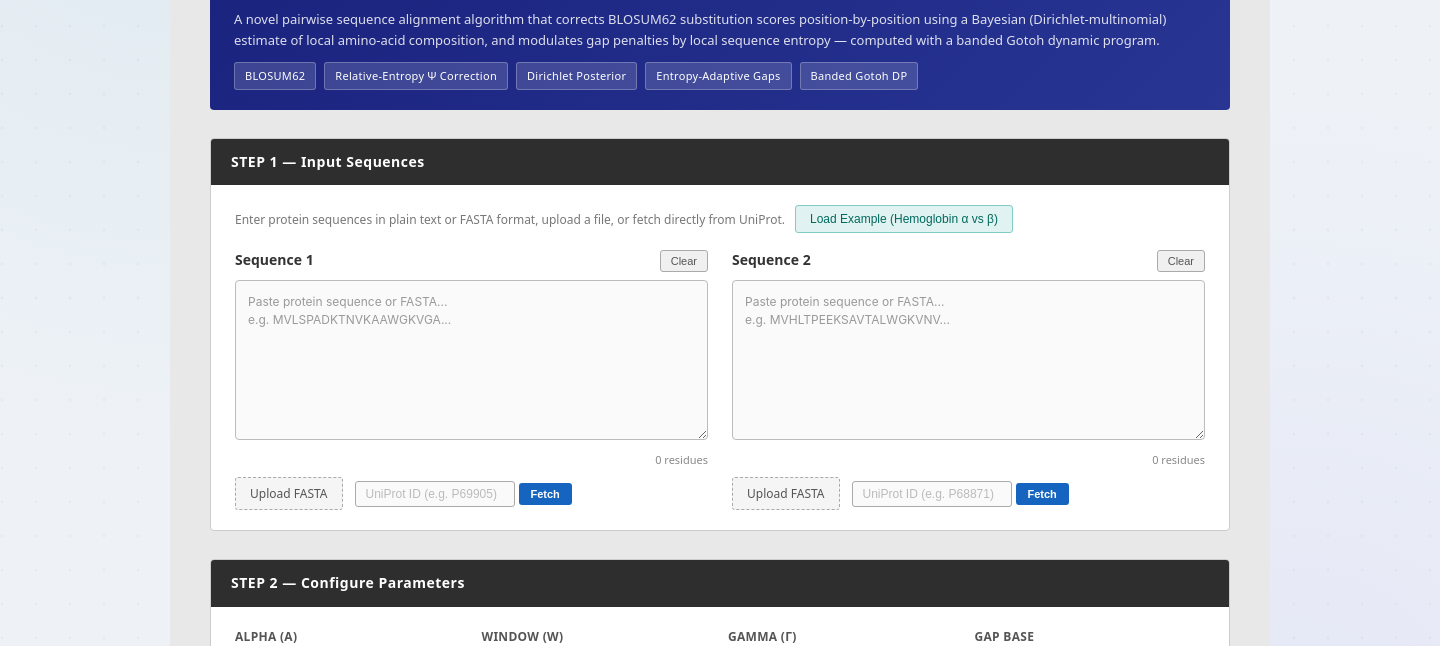
ProteinAlignmentPage › shows the submit button as disabled and with "Aligning..." text while loading
Replace the text in the 1st text box with "MVLSPADKTNVKAAWGKVGA" at (472, 360), box left=235, top=280, right=708, bottom=440
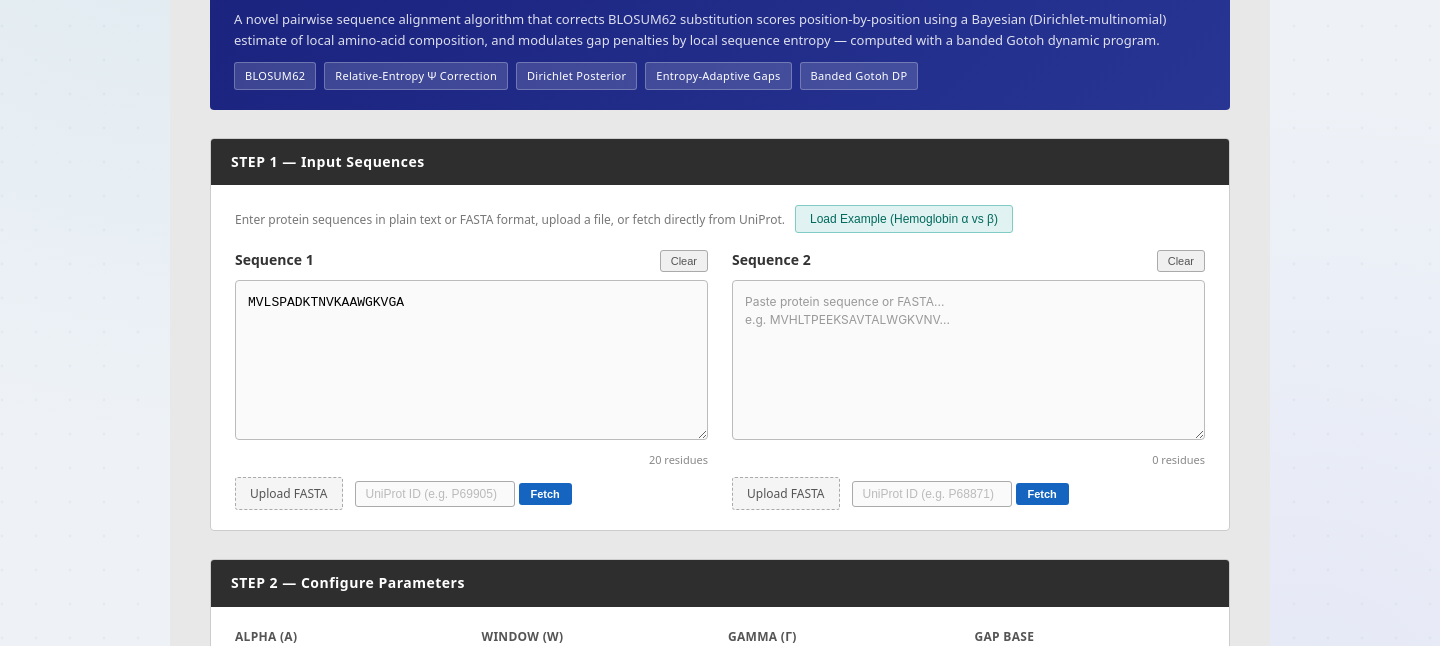
Replace the text in the 2nd text box with "MVHLTPEEKSAVTALWGKVNV" at (968, 360), box left=732, top=280, right=1205, bottom=440
(page scrolled)
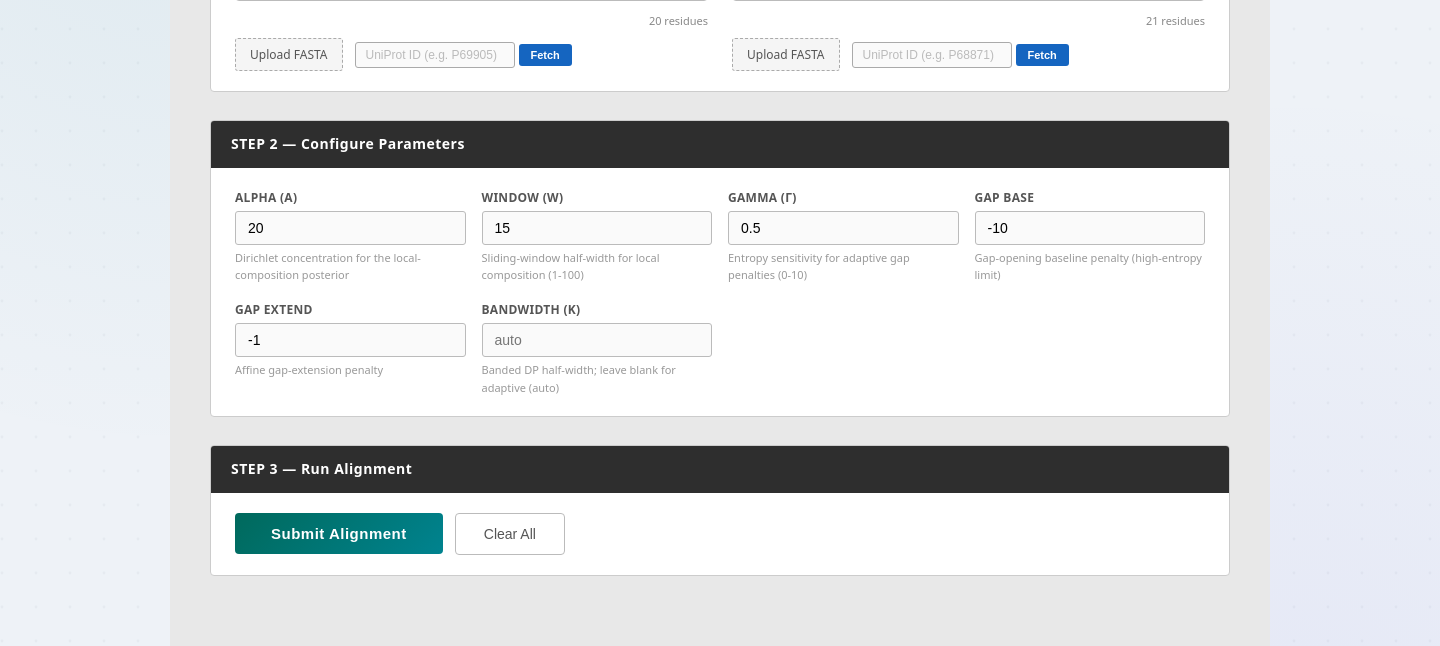
Click the button "Submit Alignment" at (339, 533), box left=235, top=513, right=443, bottom=554
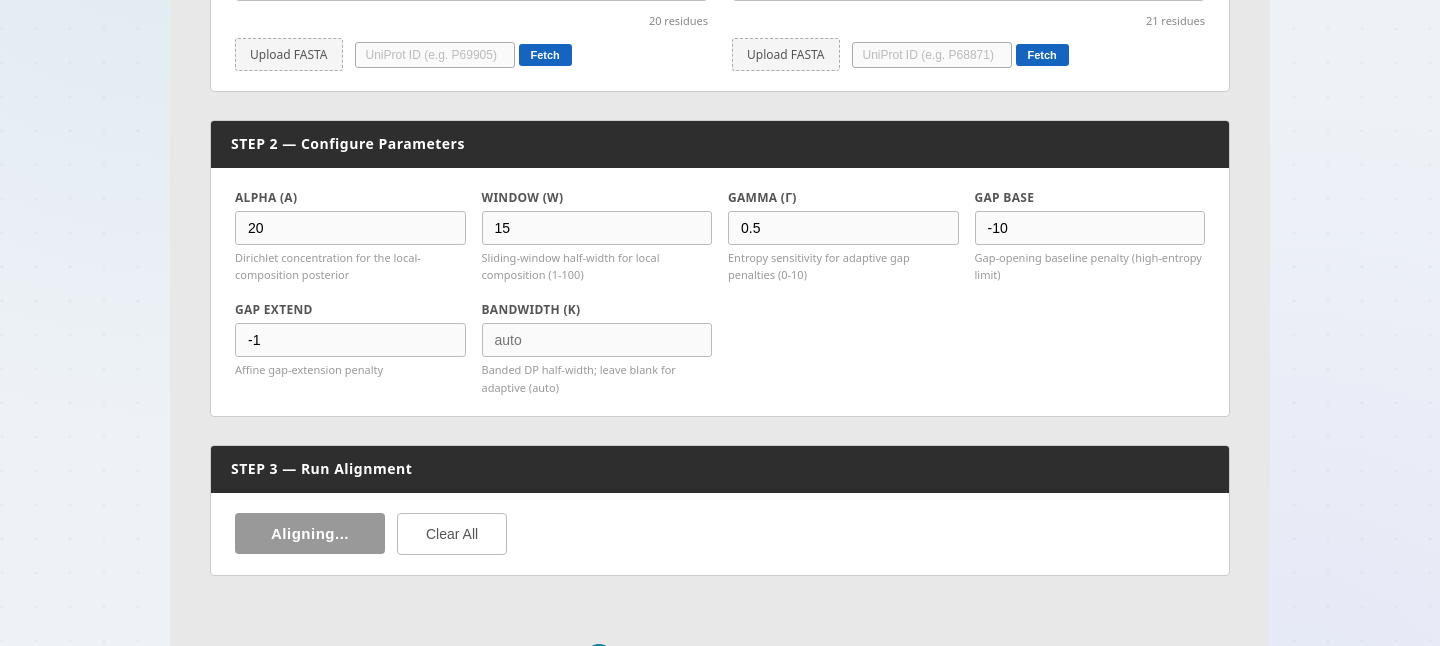
Expected: the button "Aligning..." is disabled, left=235, top=513, right=385, bottom=554
